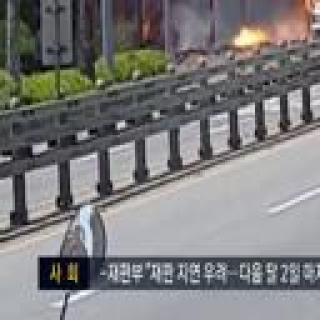fire: (236, 27, 271, 46), (287, 0, 320, 11)
